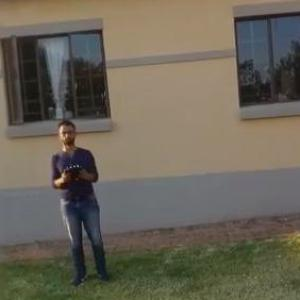follow: (49, 112, 116, 294)
